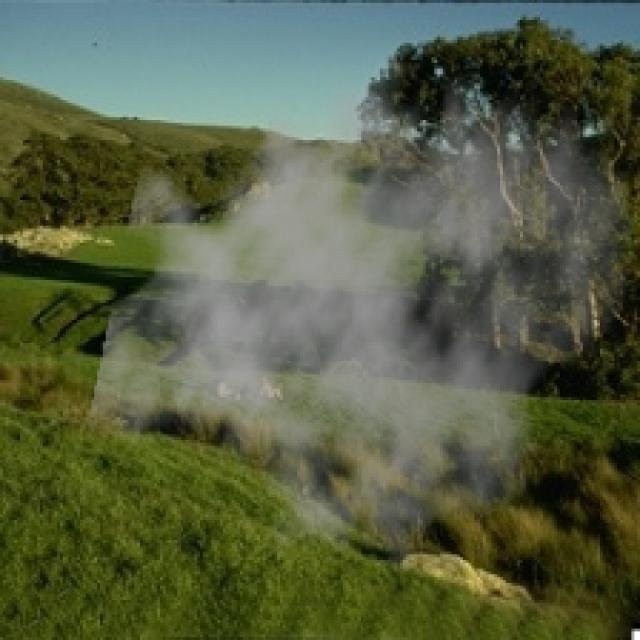smoke: (86, 23, 637, 577)
